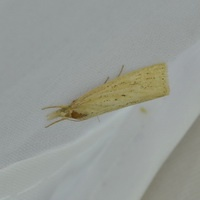insect: (42, 63, 168, 127)
